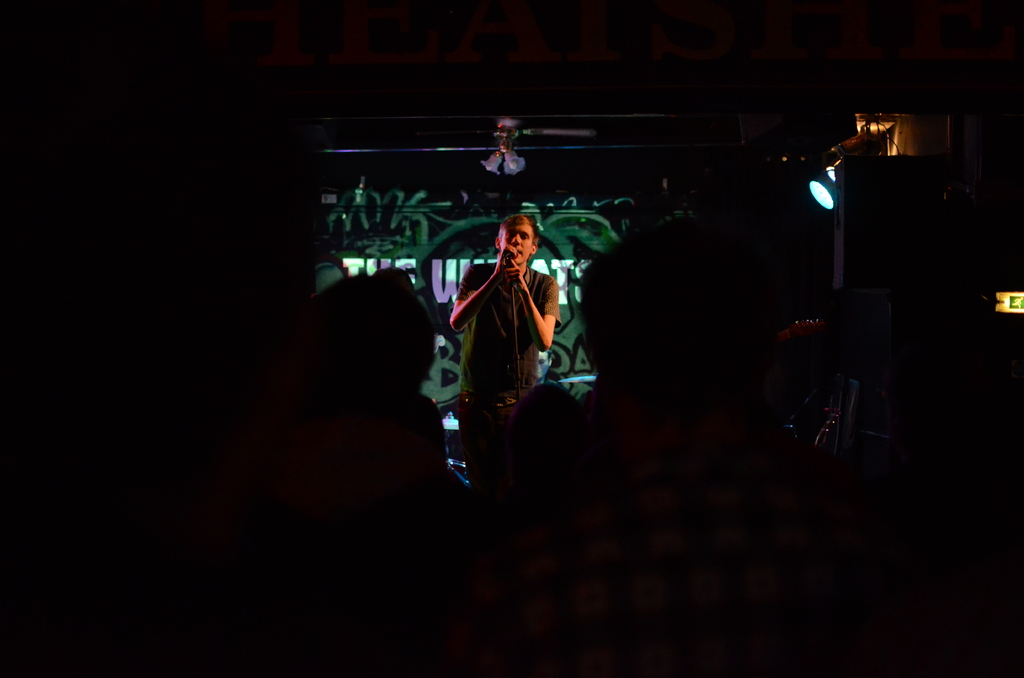Human_hand: (497, 242, 518, 266), (505, 259, 525, 284)
